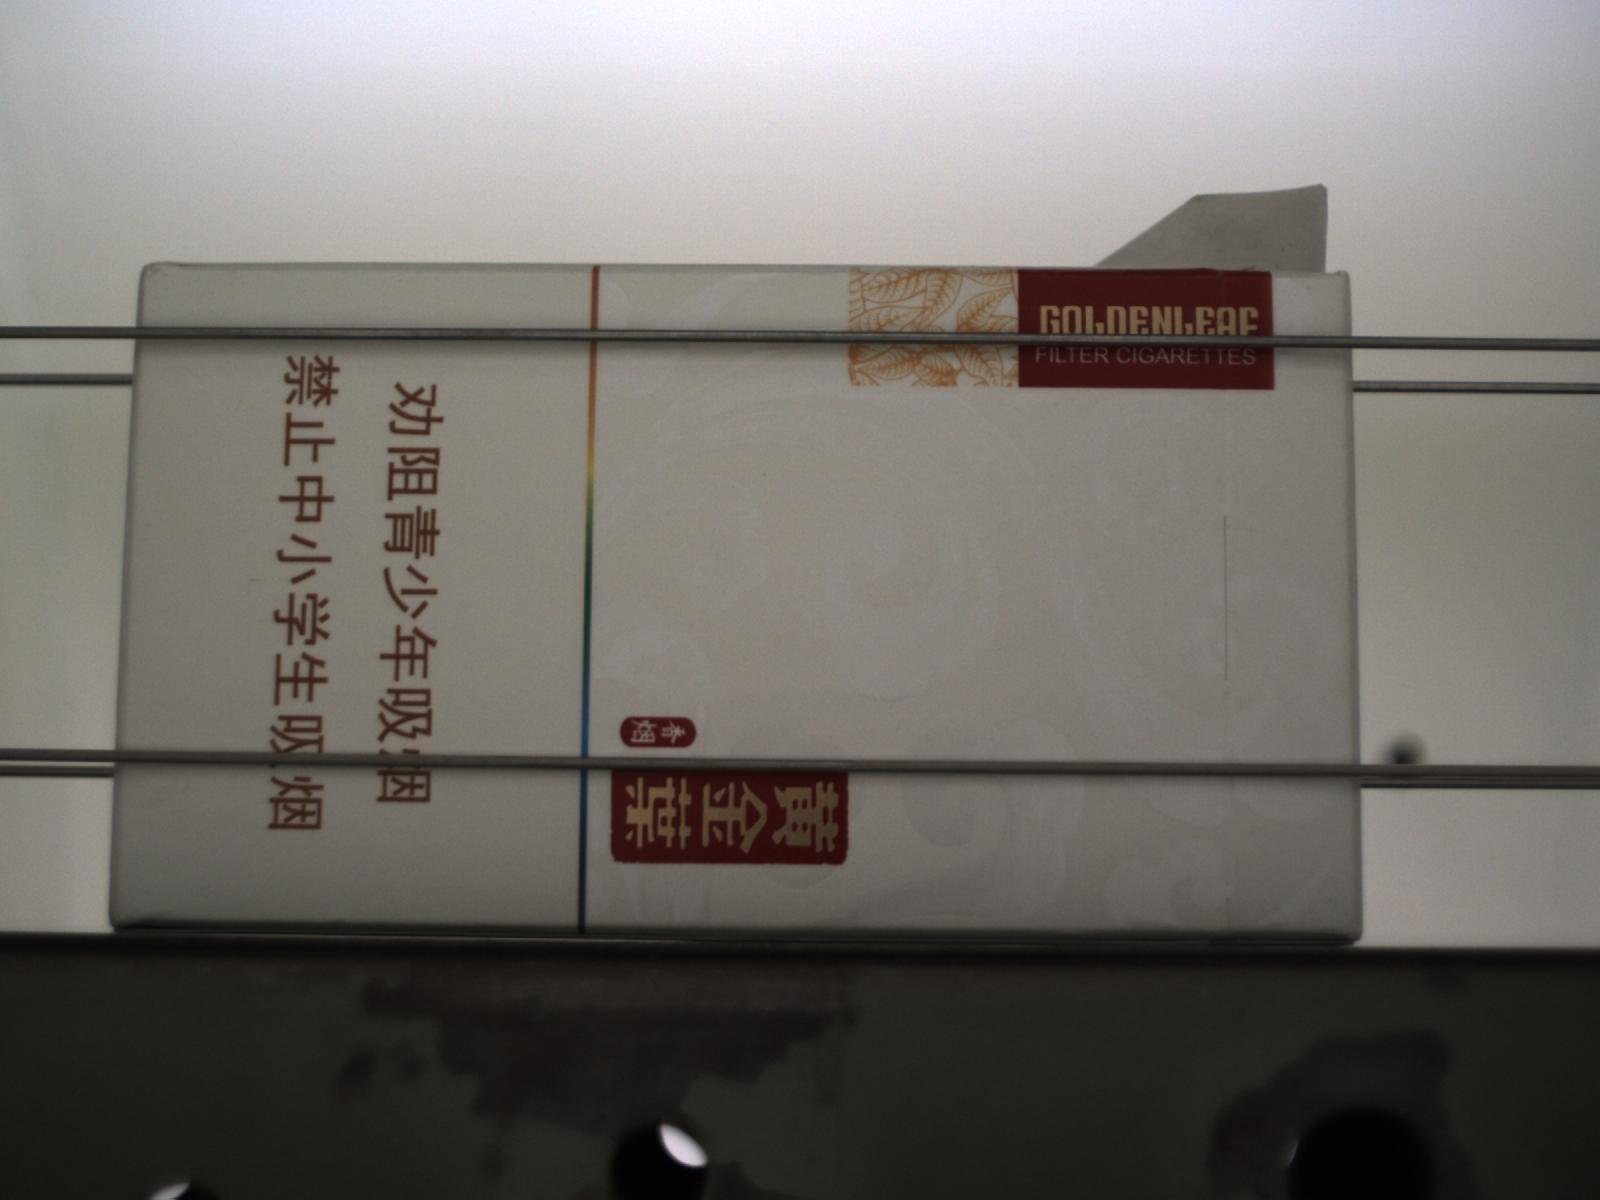dirtySpot: (761, 470, 769, 477)
headUpwarp_upper_01: (1097, 181, 1335, 271)
